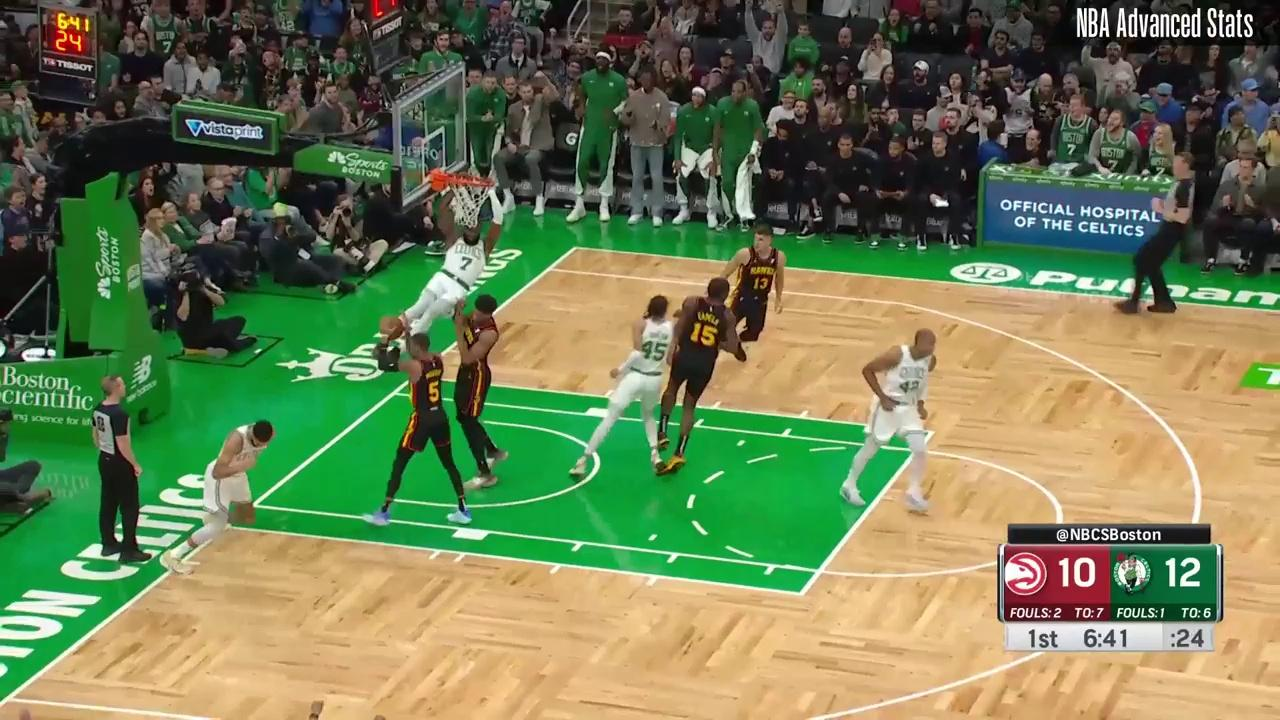3_dx: (545, 263, 555, 274)
3_sx: (2, 691, 15, 706)
b_dx: (570, 242, 580, 252)
free_adx: (925, 425, 939, 439)
free_asx: (794, 587, 807, 600)
free_bsx: (223, 520, 233, 531)
referee: (1114, 150, 1195, 315), (92, 375, 153, 564)
team: (389, 177, 504, 374), (569, 295, 673, 477), (840, 327, 937, 515), (159, 419, 273, 574)
team1: (363, 312, 473, 528), (658, 276, 748, 473), (704, 226, 786, 357), (454, 293, 509, 488)
timer: (1078, 621, 1130, 649)
